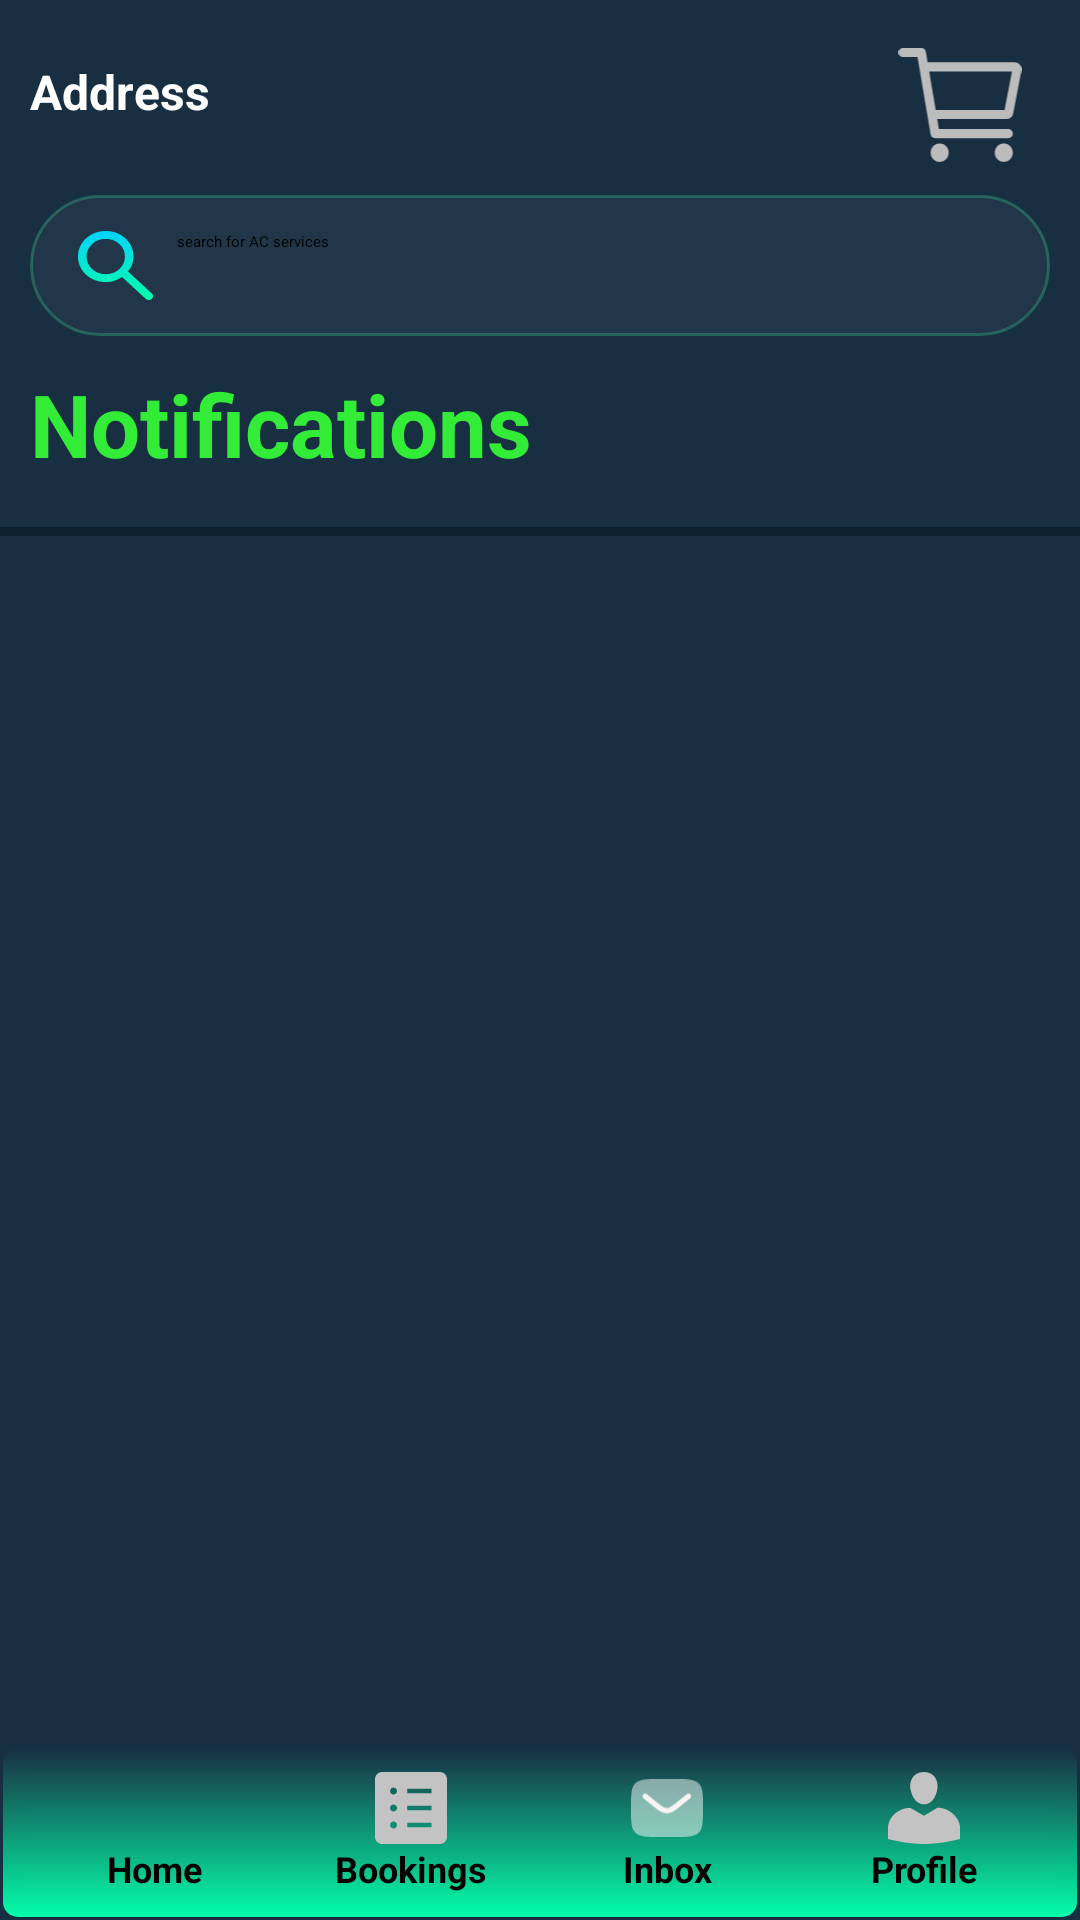

Screen size 1080*1920. Icon name, then its center in pixels as (x,y):
shopping cart: (960,105)
